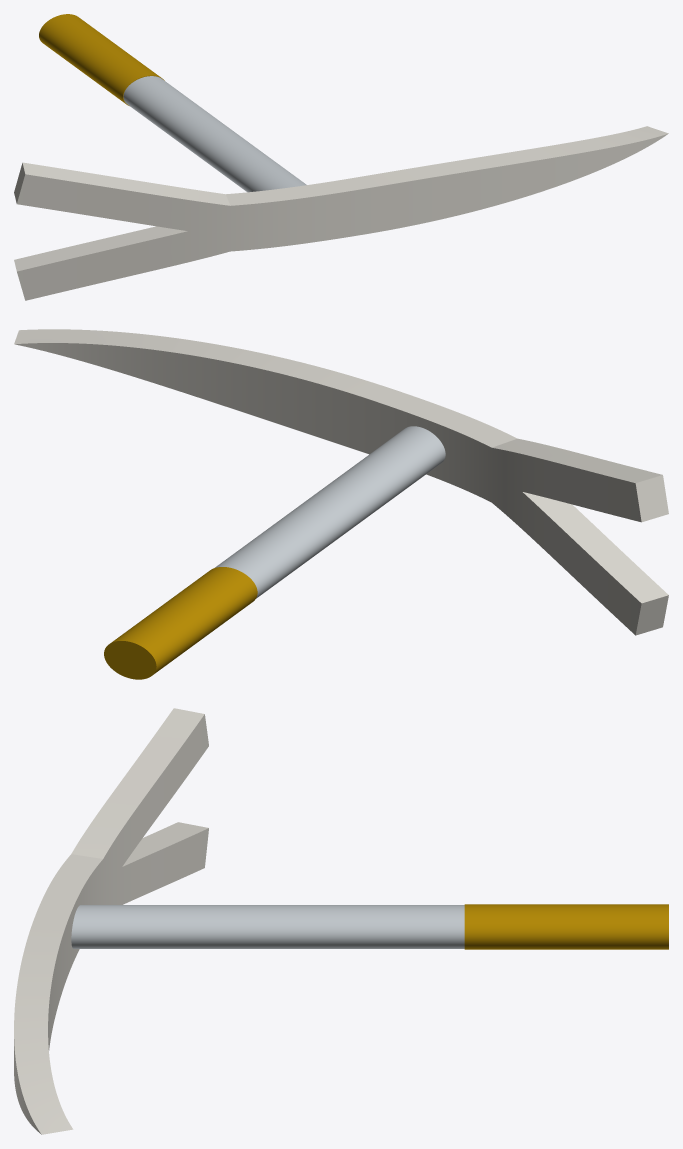
Rendered from Pickaxe.gltf.
The picture shows the model from 3 angles, top to bottom: view 1: azimuth 30°, elevation 25°; view 2: azimuth 150°, elevation 25°; view 3: azimuth 270°, elevation 25°; orthographic projection. The views are drawn at different scales.
Visible parts, largest first — view 1: PickaxeHoofd, Steel, Handvat; view 2: PickaxeHoofd, Steel, Handvat; view 3: PickaxeHoofd, Steel, Handvat.
Part boxes in pixels (box(x1,y1,x2,y2)): PickaxeHoofd: box(14, 126, 668, 300); Steel: box(123, 76, 306, 192); Handvat: box(39, 14, 164, 105); PickaxeHoofd: box(14, 329, 668, 635); Steel: box(215, 426, 445, 598); Handvat: box(104, 567, 257, 679); PickaxeHoofd: box(14, 708, 208, 1134); Steel: box(71, 905, 464, 948); Handvat: box(464, 904, 668, 949).
Size of the model in its own units: 1.23 by 0.2495 by 0.962.
